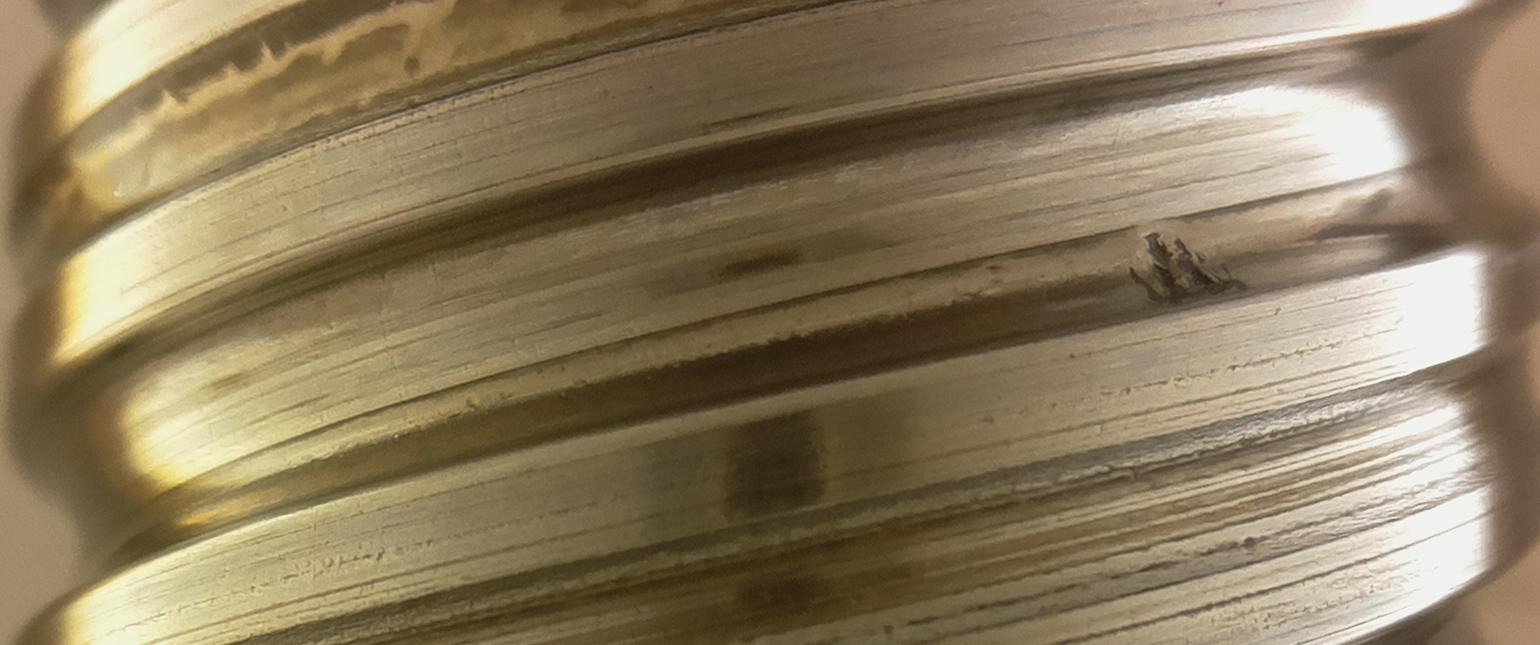pitting: (1130, 232, 1246, 309), (1196, 252, 1206, 263), (1222, 264, 1229, 274)
